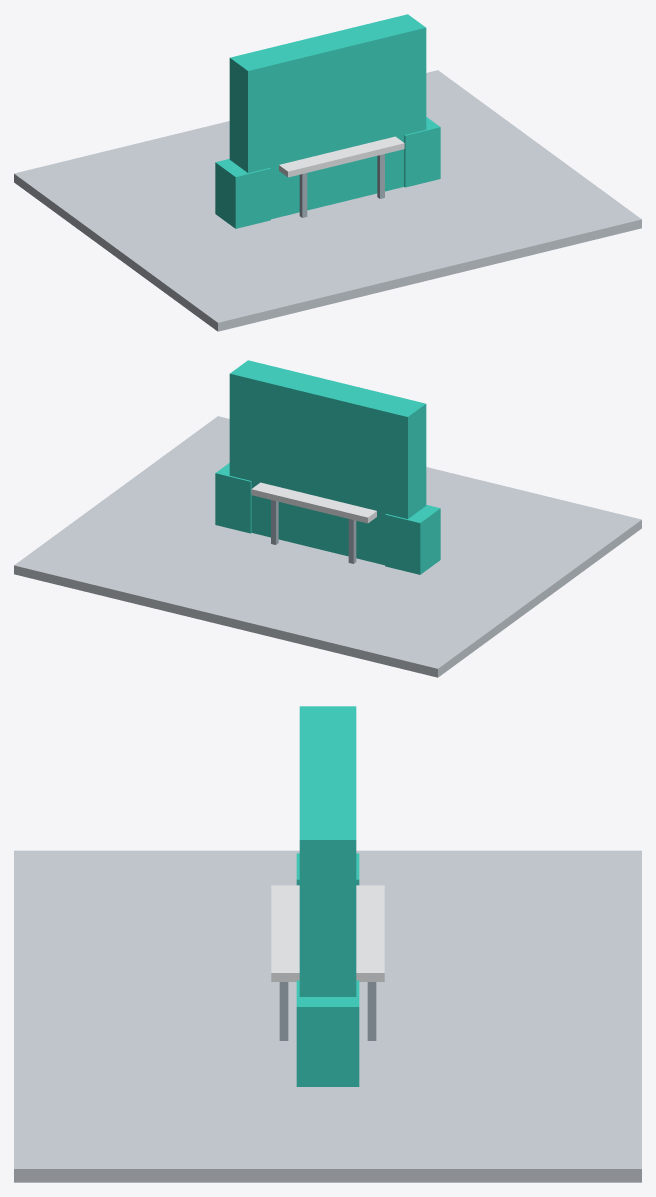
3 views of the same model, one above another, from view 1: azimuth 30°, elevation 25°; view 2: azimuth 150°, elevation 25°; view 3: azimuth 270°, elevation 25° (orthographic). The views are drawn at different scales.
Visible parts, largest first — view 1: Exhibition Booth Concept; view 2: Exhibition Booth Concept; view 3: Exhibition Booth Concept.
Part boxes in pixels (x1=…): Exhibition Booth Concept: x1=14, y1=14, x2=641, y2=331; Exhibition Booth Concept: x1=14, y1=360, x2=641, y2=677; Exhibition Booth Concept: x1=14, y1=706, x2=641, y2=1182.
Bounding box in the file's own units: 6 × 2.2 × 5.
